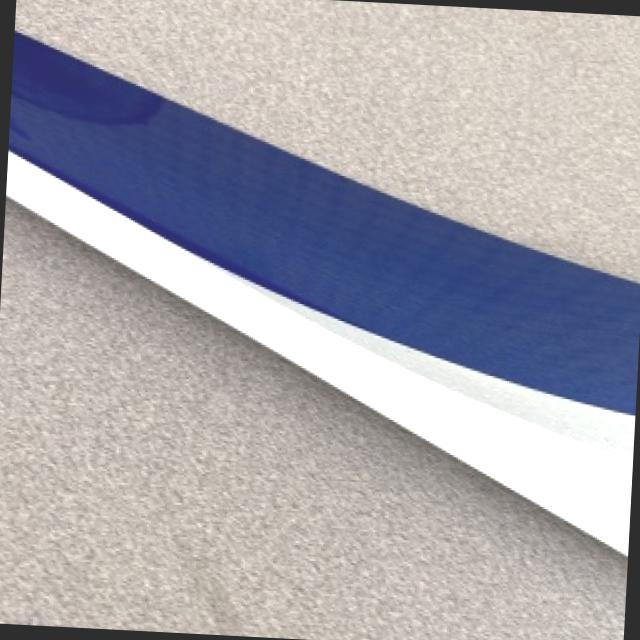healthy: (0, 199, 626, 640)
